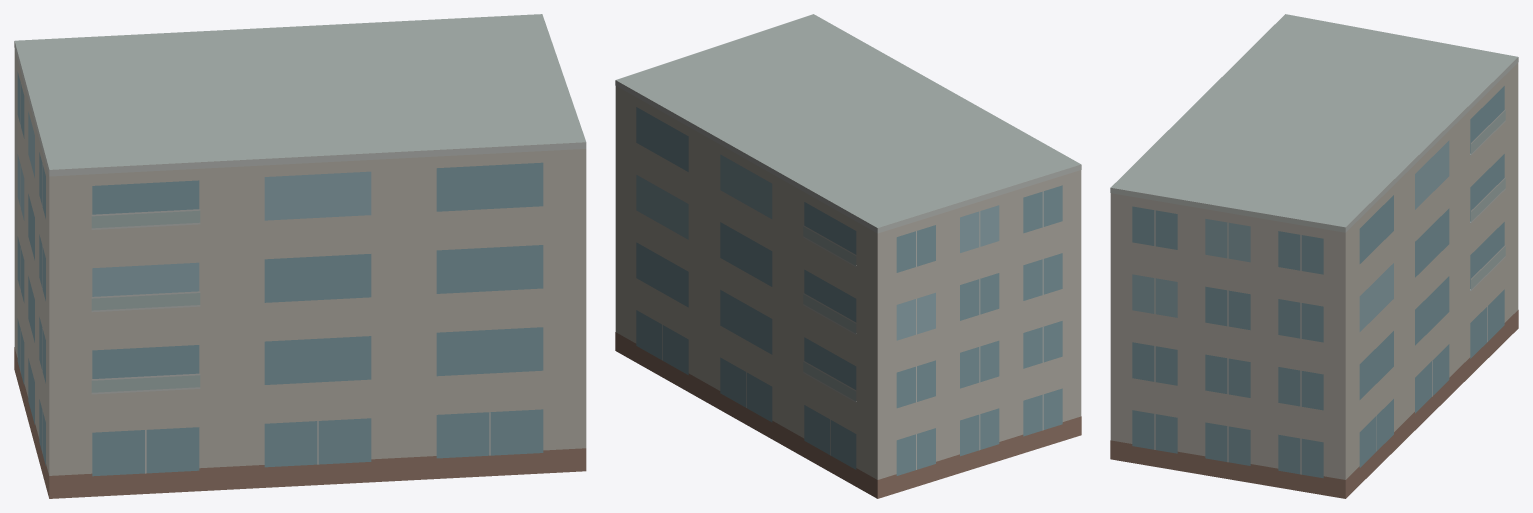
File: survey-upis-32682153.glb
The picture shows the model from 3 angles, left to right: view 1: azimuth 30°, elevation 25°; view 2: azimuth 150°, elevation 25°; view 3: azimuth 270°, elevation 25°; orthographic projection. The views are drawn at different scales.
Visible parts, largest first — view 1: survey-upis-32682153.tmp; view 2: survey-upis-32682153.tmp; view 3: survey-upis-32682153.tmp.
Part boxes in pixels (x1=…): survey-upis-32682153.tmp: x1=14, y1=14, x2=586, y2=498; survey-upis-32682153.tmp: x1=615, y1=14, x2=1081, y2=498; survey-upis-32682153.tmp: x1=1110, y1=14, x2=1518, y2=498.
Size of the model in its own units: 20.56 by 12.2 by 16.62.
